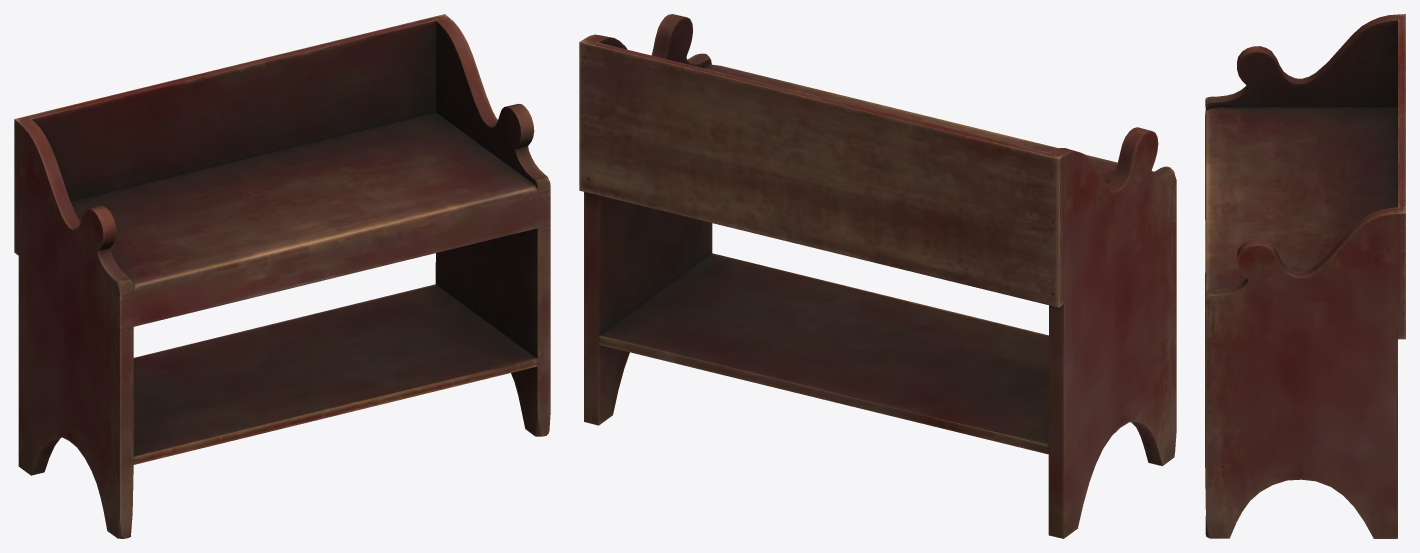
File: painted_wooden_bench.glb
3 views of the same model, side by side, from view 1: azimuth 30°, elevation 25°; view 2: azimuth 150°, elevation 25°; view 3: azimuth 270°, elevation 25° (orthographic). The views are drawn at different scales.
Visible parts, largest first — view 1: painted_wooden_bench; view 2: painted_wooden_bench; view 3: painted_wooden_bench.
Part boxes in pixels (box(x1,y1,x2,y2)): painted_wooden_bench: box(14, 14, 550, 538); painted_wooden_bench: box(579, 14, 1176, 538); painted_wooden_bench: box(1205, 14, 1405, 538).
Size of the model in its own units: 1.16 by 0.8893 by 0.4965.
1 material, 1 textured.
